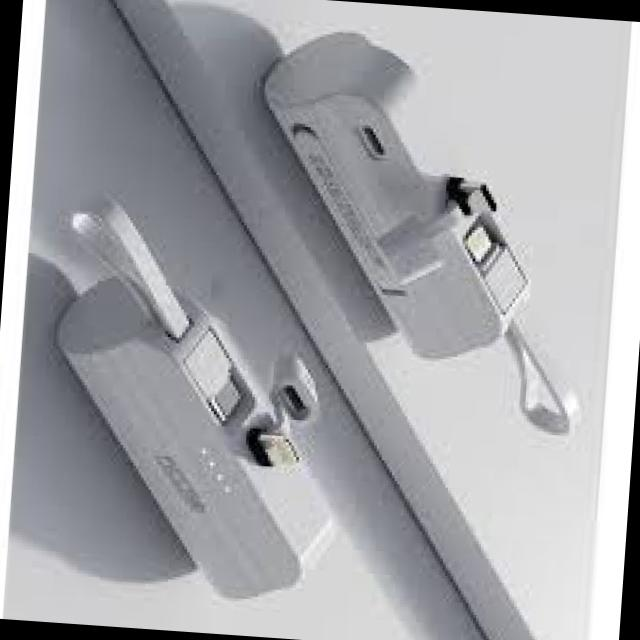portable-charger: (34, 269, 352, 608), (238, 24, 549, 369)
